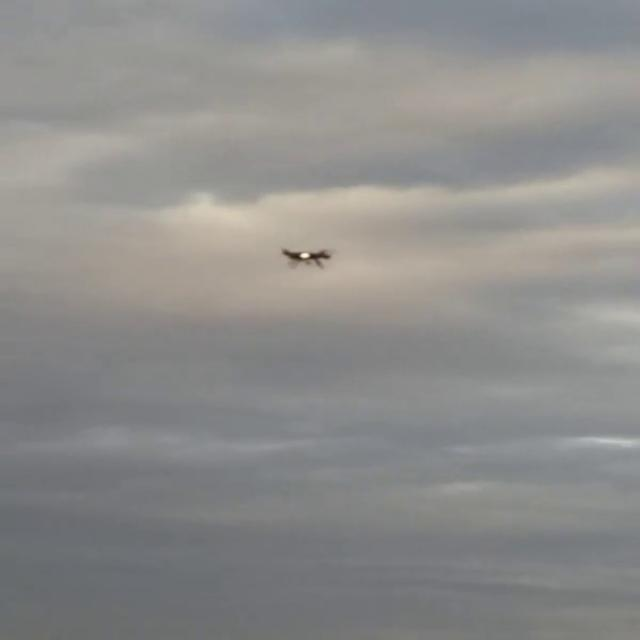drone: (275, 241, 339, 271)
